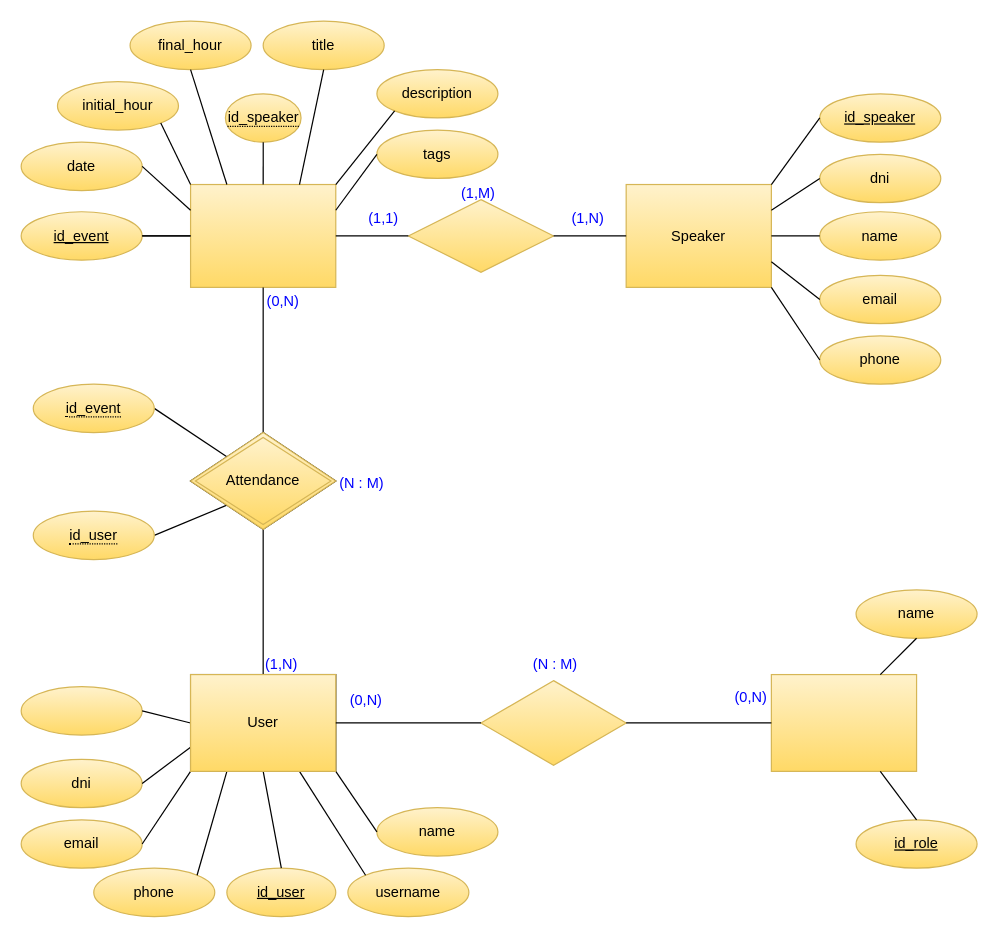
Some shapes in this 998 by 938 pixel diagram are drawn without their labels. Here are the shapes that lost their labels. From the top down, the centre of each, then its label:
At pixel 262 235: "Event".
At pixel 480 235: "Attend".
At pixel 81 710: "age".
At pixel 553 722: "user_roles".
At pixel 843 722: "Roles".
